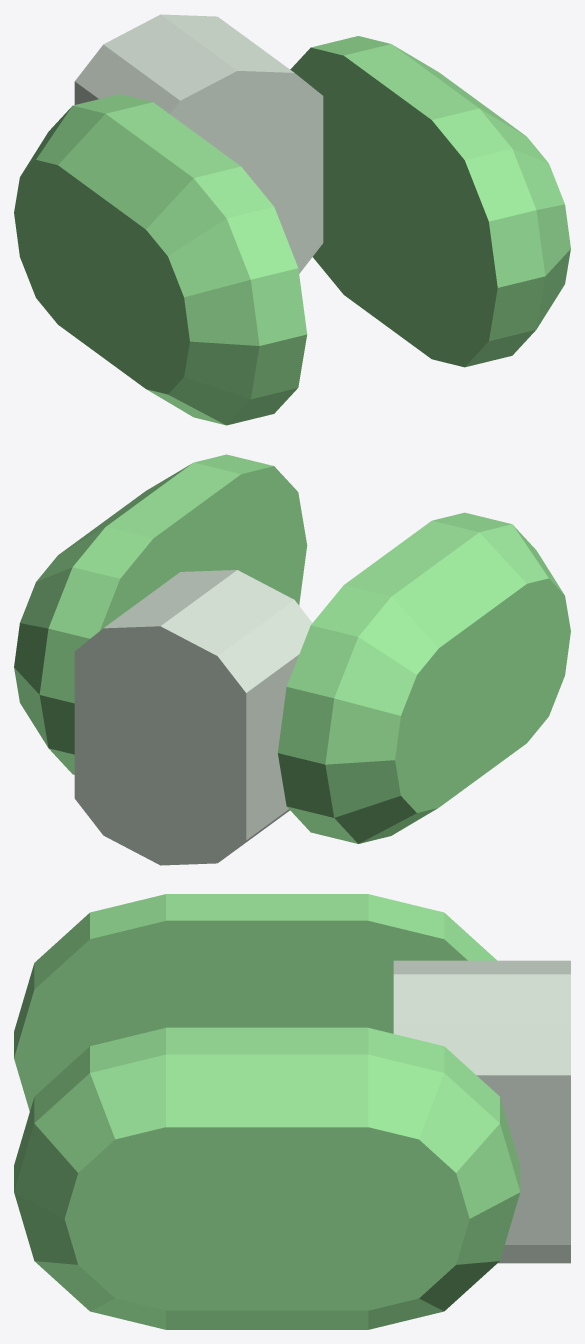
3 views of the same model, one above another, from view 1: azimuth 30°, elevation 25°; view 2: azimuth 150°, elevation 25°; view 3: azimuth 270°, elevation 25° (orthographic). The views are drawn at different scales.
Parts seen in each view (by area): view 1: J3_LINK (×3); view 2: J3_LINK (×3); view 3: J3_LINK (×3).
Part boxes in pixels (bbox=[...]): J3_LINK (×3): bbox=[14, 14, 570, 425]; J3_LINK (×3): bbox=[14, 454, 570, 865]; J3_LINK (×3): bbox=[14, 894, 570, 1329].
Bounding box in the file's own units: 0.2 × 0.12 × 0.22.
